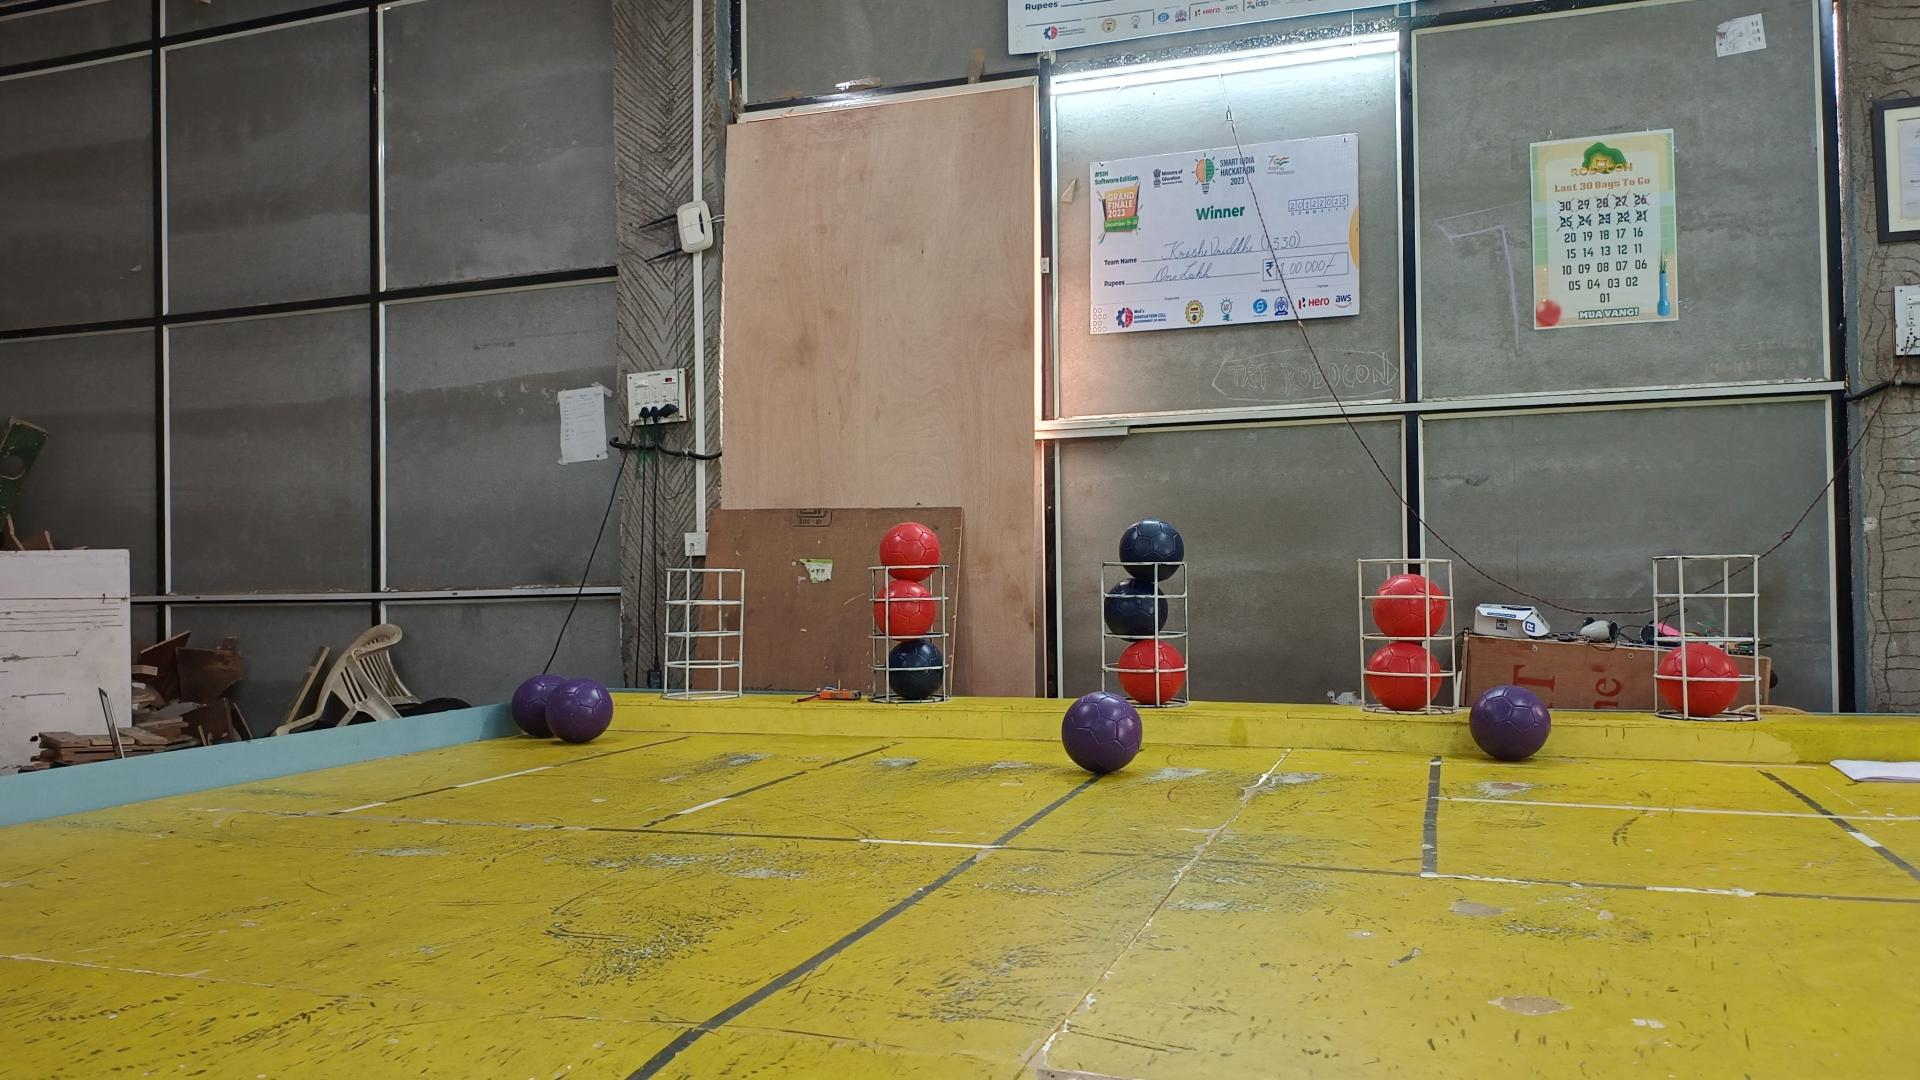dhoka: (1118, 520, 1183, 583), (1106, 579, 1170, 636), (890, 637, 943, 698)
laale: (1654, 641, 1741, 716), (1367, 642, 1443, 709), (1373, 576, 1448, 640), (1114, 637, 1185, 702), (881, 522, 940, 582), (870, 580, 934, 636)
